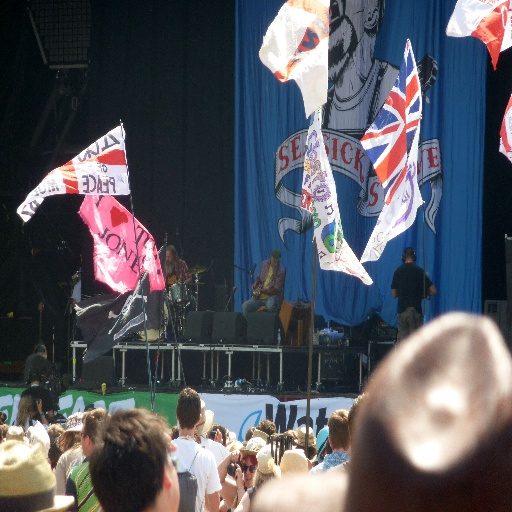hand: (163, 429, 178, 451), (232, 462, 241, 487), (230, 448, 243, 464), (214, 427, 224, 444), (36, 398, 42, 411), (306, 458, 312, 470), (249, 282, 255, 291), (255, 288, 261, 293), (178, 280, 183, 282)
